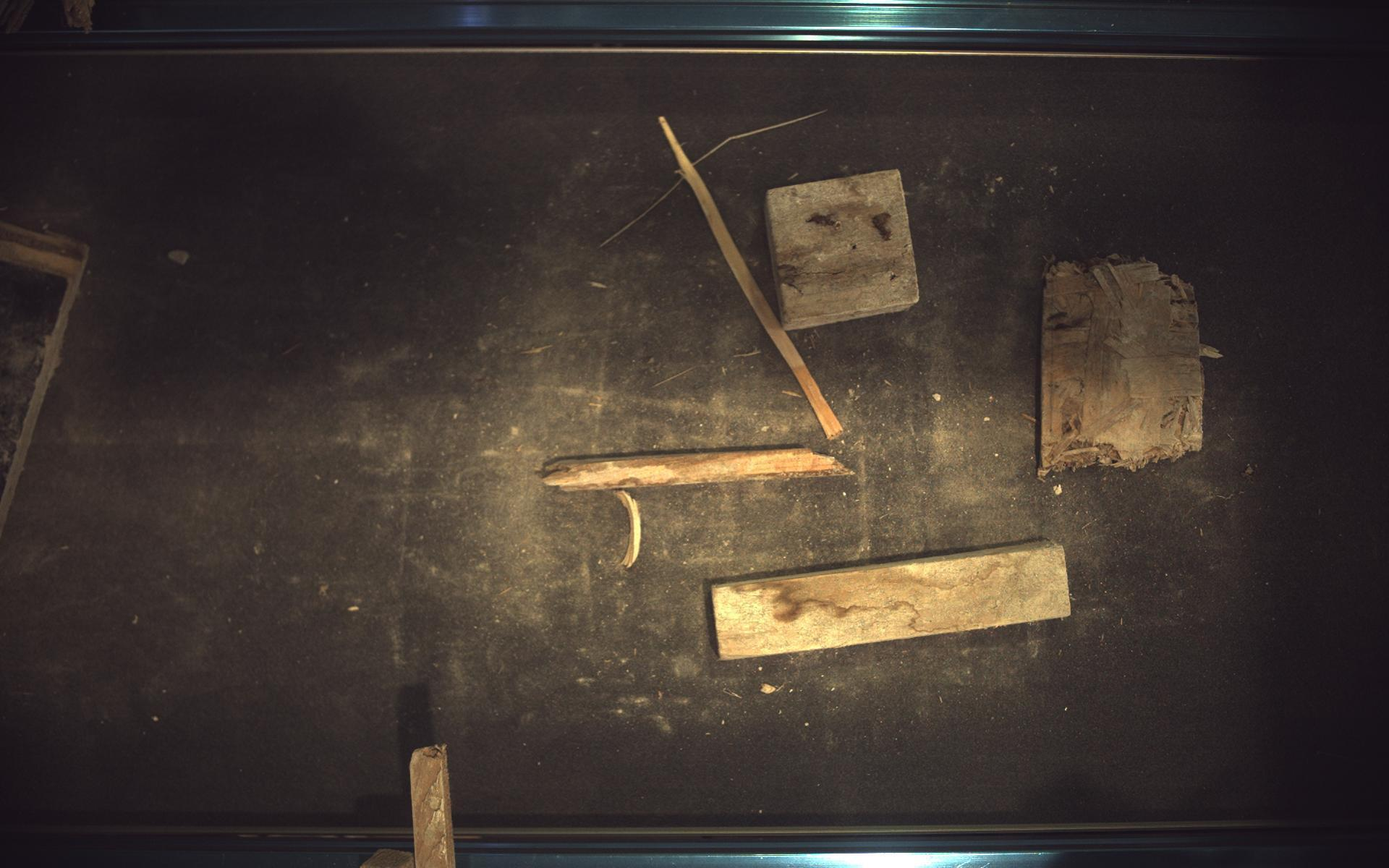wood: (713, 542, 1074, 660), (1040, 255, 1223, 477), (767, 169, 920, 331), (543, 448, 853, 491)
